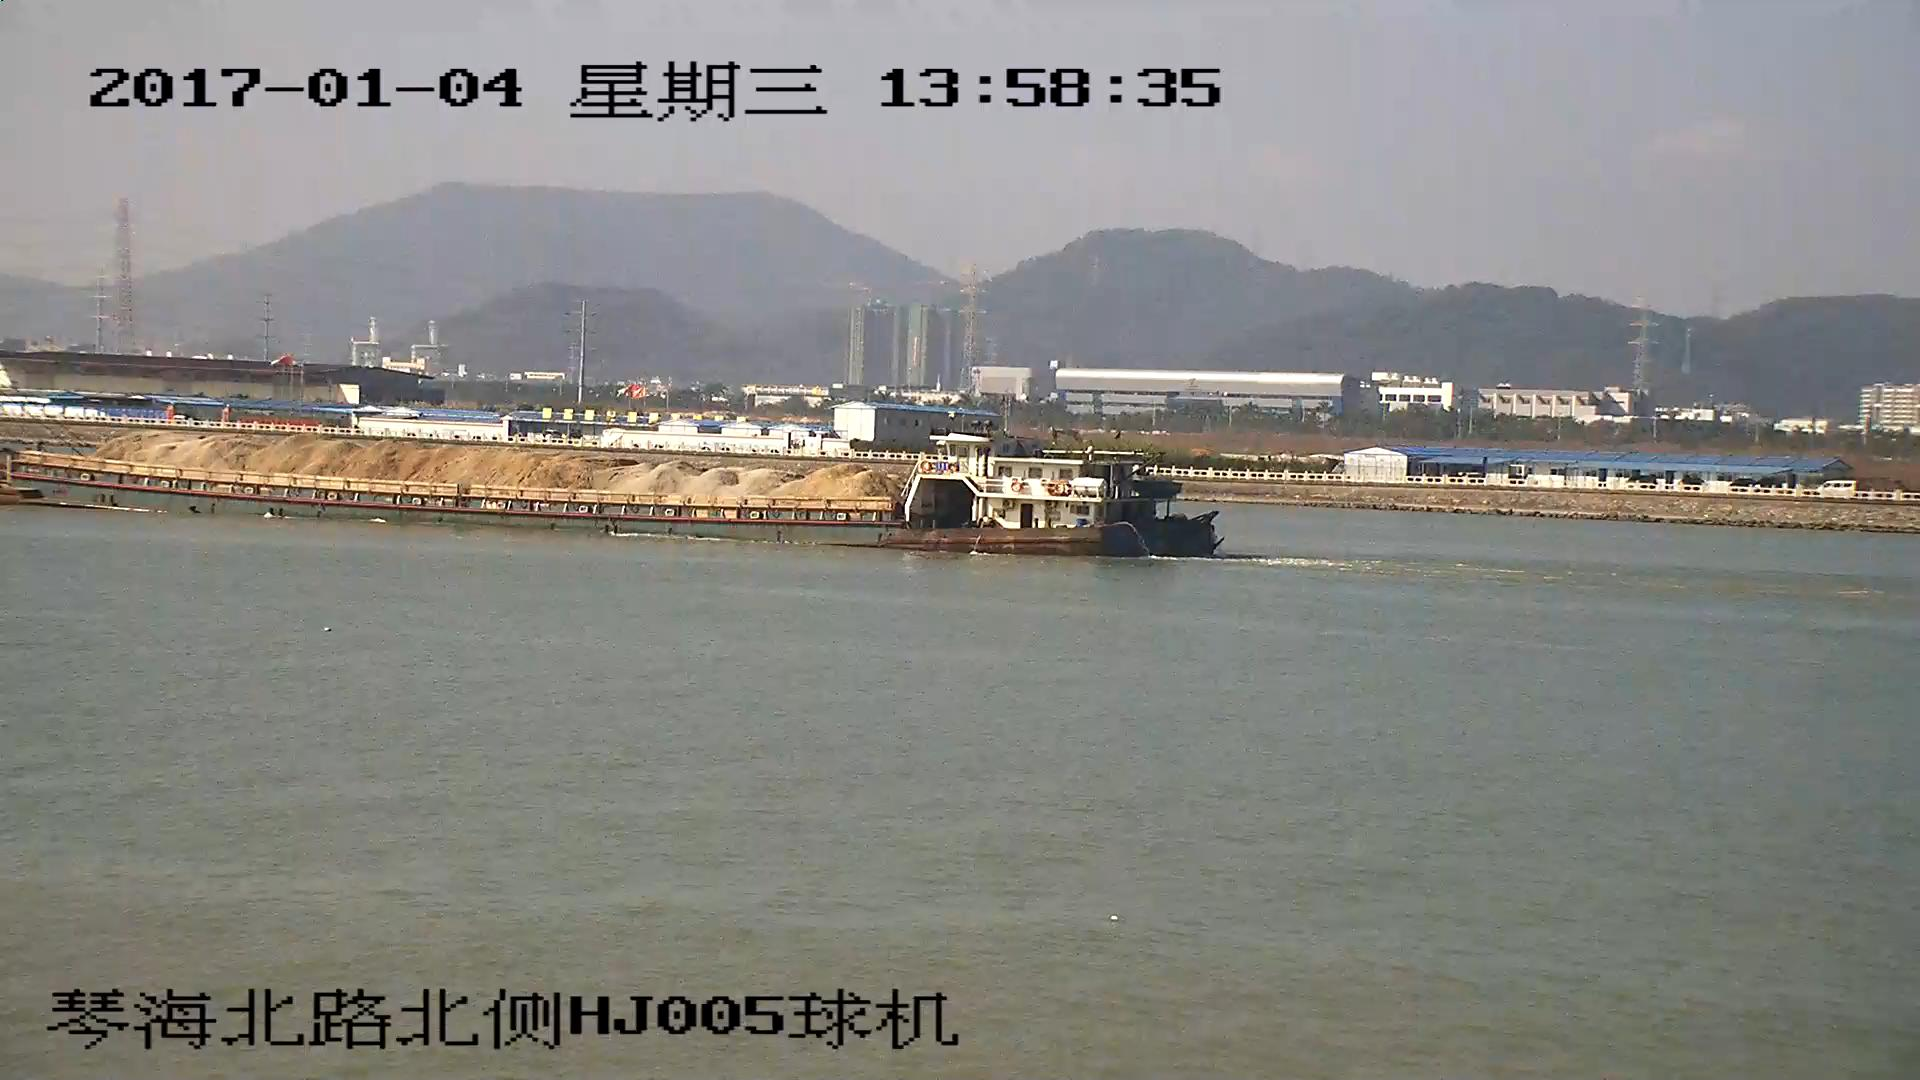ore carrier: (1, 429, 1220, 560)
